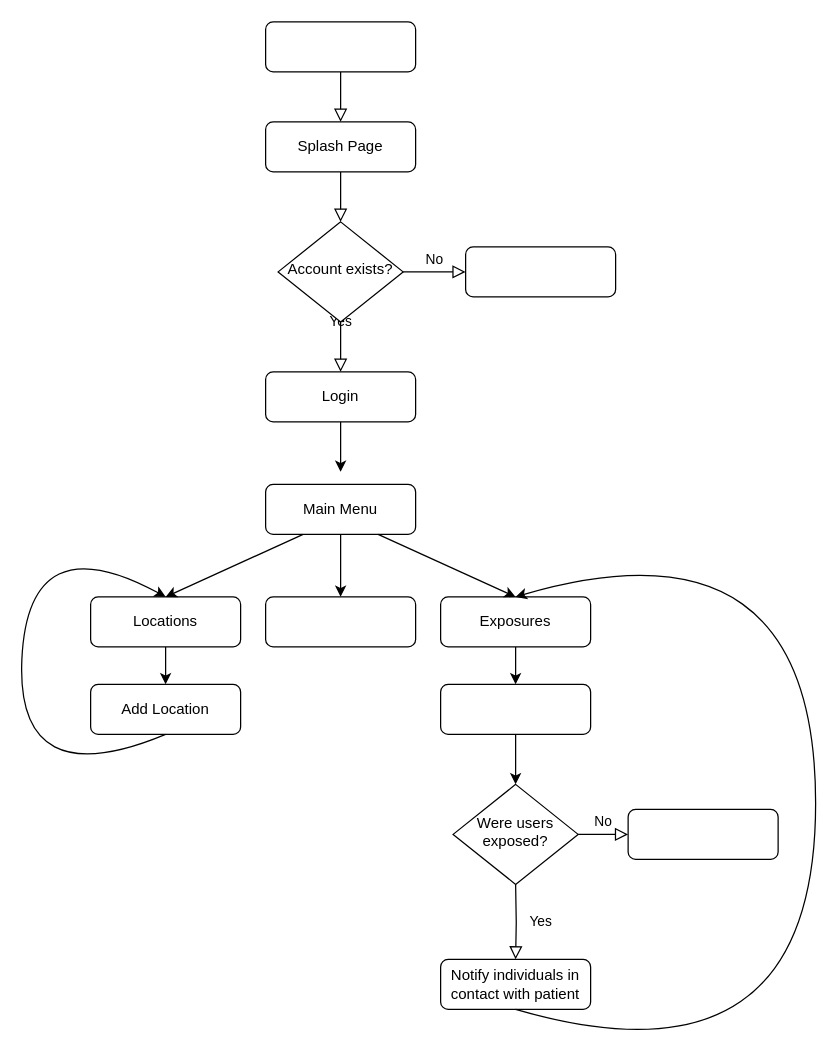
Some shapes in this 839 by 1053 pixel diagram are drawn without their labels. Here are the shapes that lost their labels. From the top down, the centre of each, then its label:
At point 340,46: "User launches application".
At point 540,271: "Create account".
At point 340,621: "Home Page".
At point 515,708: "Report Exposure".
At point 702,833: "Do nothing".
